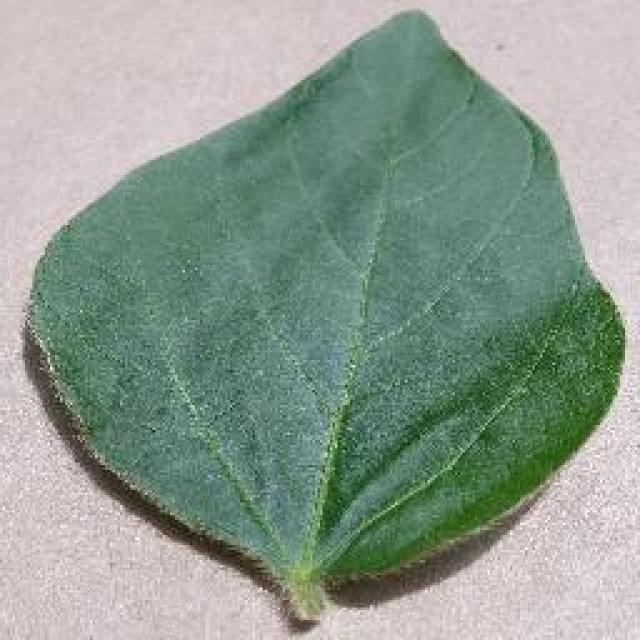Soy_healthy: (47, 78, 615, 571)
